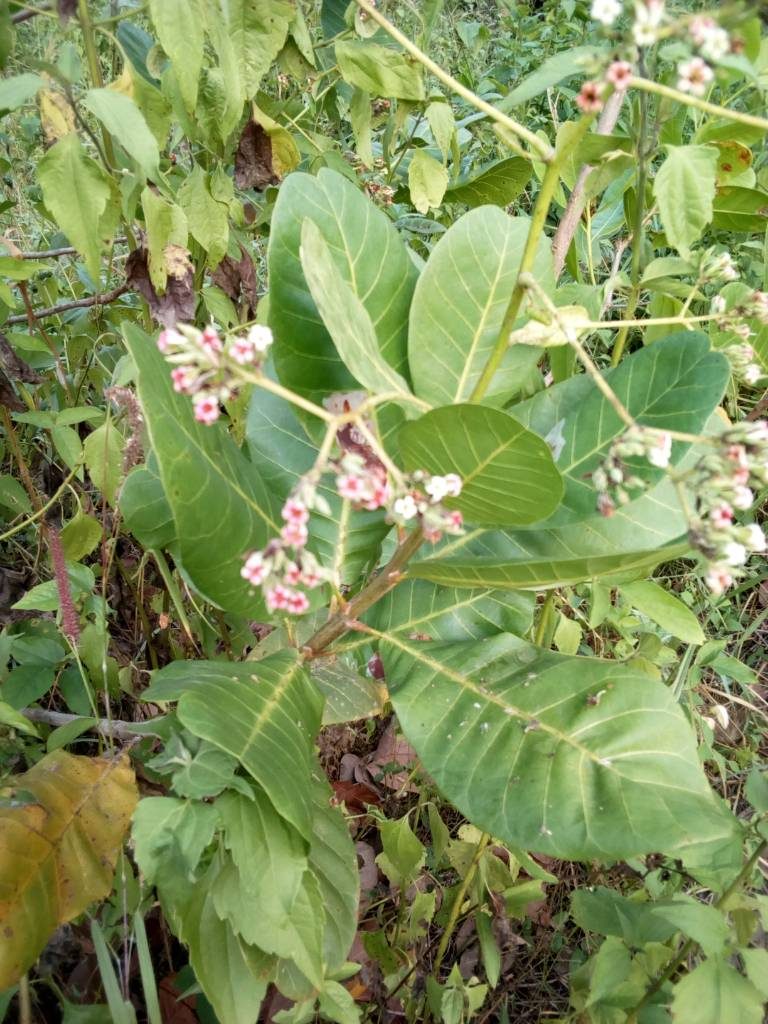Anthracnose: (1, 741, 138, 994)
